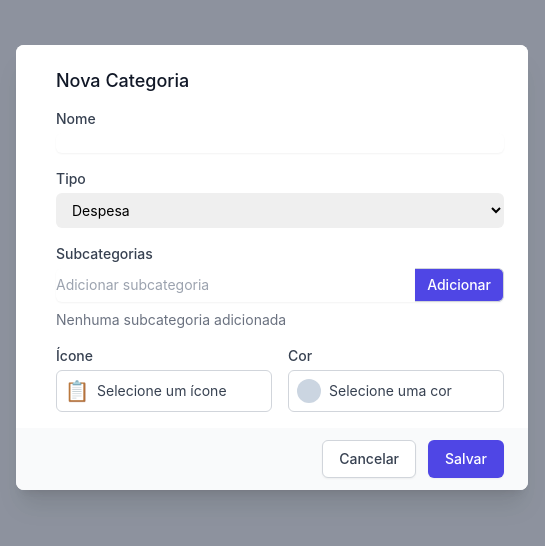
Test case: CategoryForm › limpa erro quando nova subcategoria válida é adicionada
# Adiciona primeira subcategoria
Type "Original" into the field with placeholder "Adicionar subcategoria".
click(236, 284); type("Original")  # box [56,268,415,302]
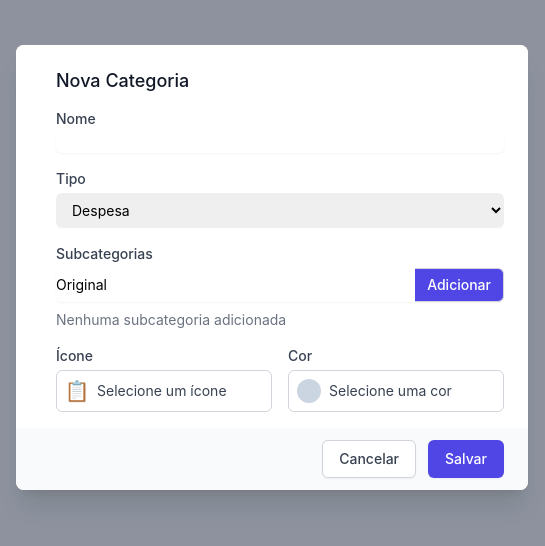
Click the button "Adicionar".
click(460, 284)  # box [415,268,504,302]
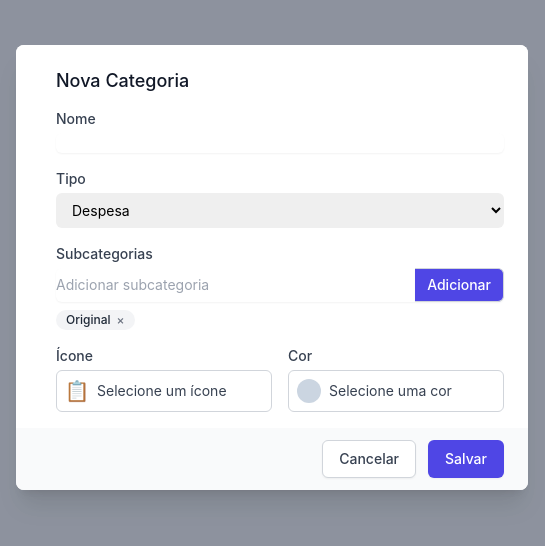
Expected: the text "Original" is shown, [66,312,110,326]
# Tenta adicionar duplicada (gera erro)
Type "Original" into the field with placeholder "Adicionar subcategoria".
click(236, 284); type("Original")  # box [56,268,415,302]
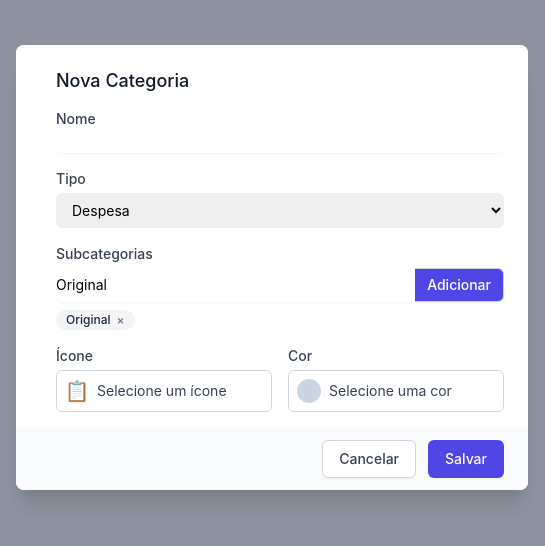
Click the button "Adicionar".
click(460, 284)  # box [415,268,504,302]
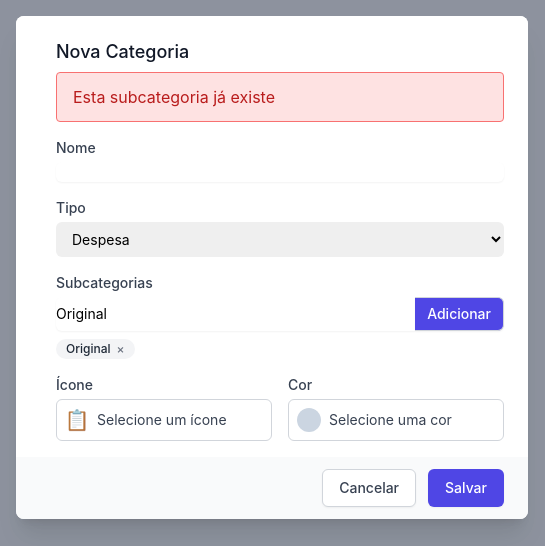
Expected: the text "Esta subcategoria já existe" is shown, [73,86,275,106]
# Adiciona subcategoria válida (deve limpar erro)
Replace the text in the field with placeholder "Adicionar subcategoria" with "Nova" at (236, 314), box [56,296,415,330]
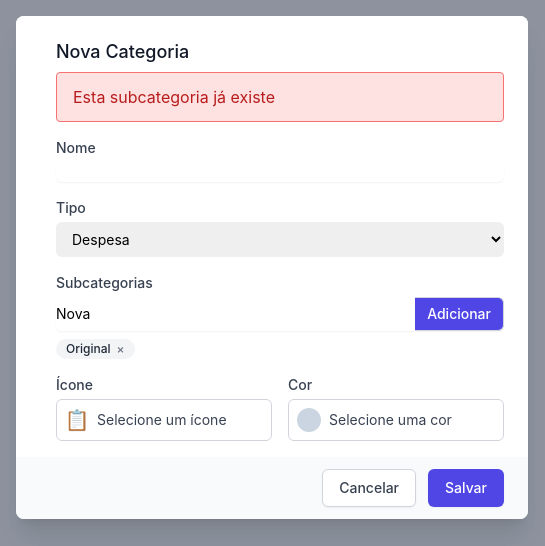
Click the button "Adicionar".
click(460, 314)  # box [415,296,504,330]
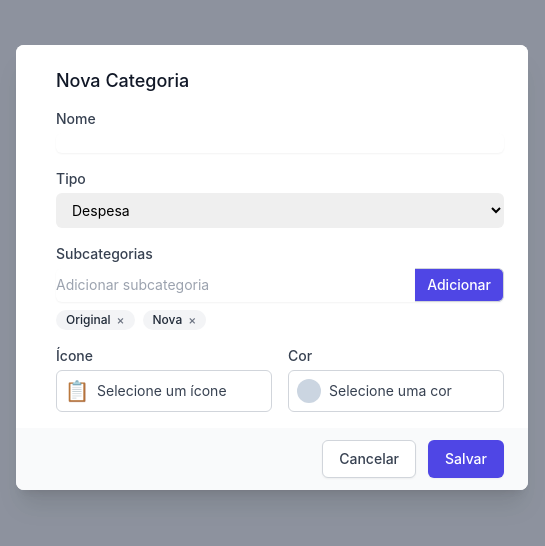
Expected: the text "Esta subcategoria já existe" is gone
Expected: the text "Nova" is shown, [152,312,182,326]
